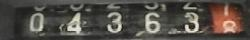digits: (211, 4, 244, 35), (144, 12, 161, 32), (66, 12, 82, 33), (106, 12, 122, 32), (183, 12, 199, 32), (28, 12, 44, 32)
